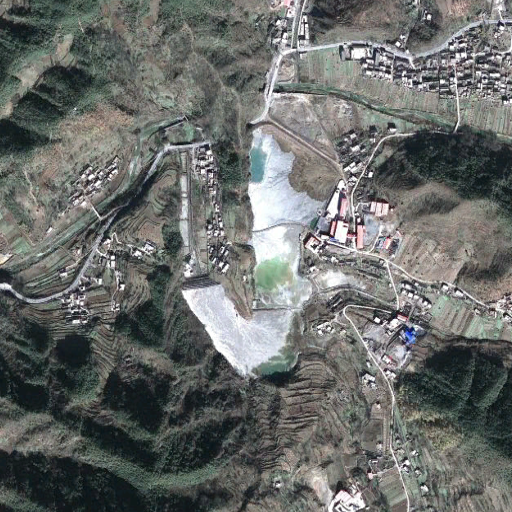tp: (187, 128, 324, 381)
